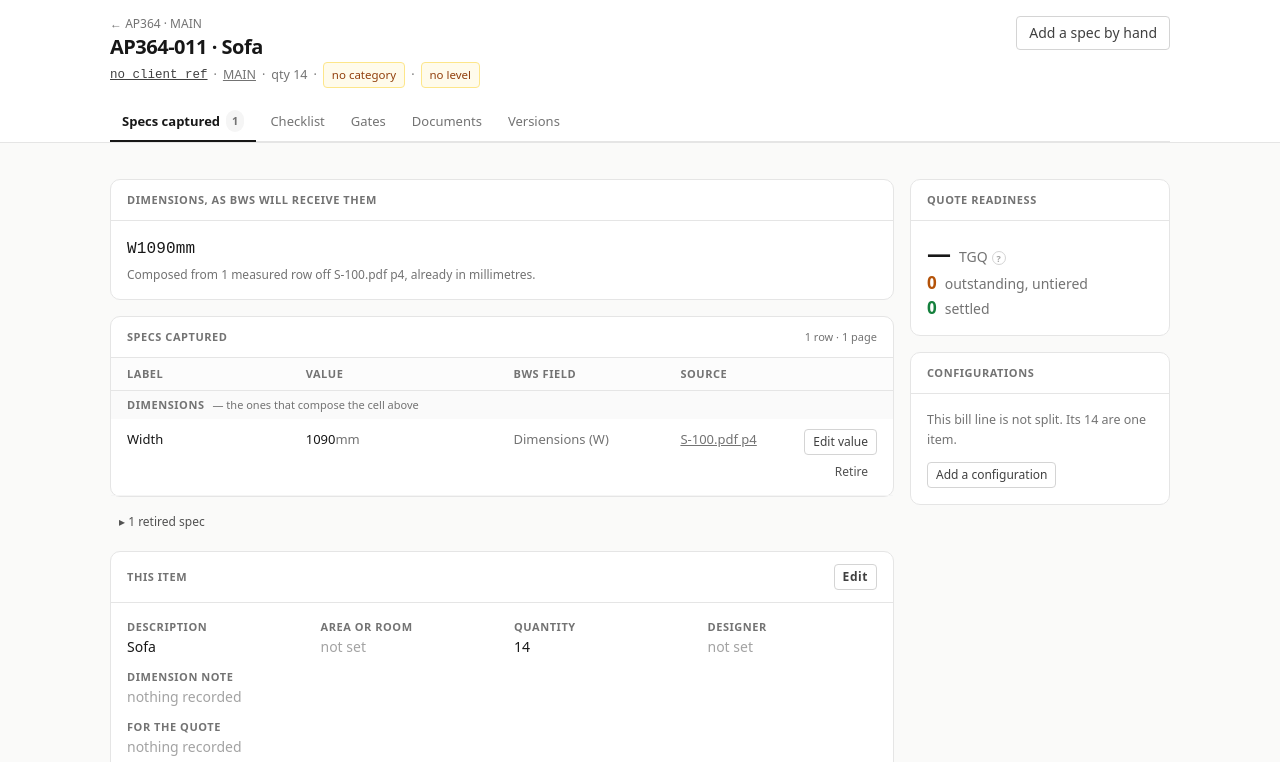
it: correcting a spec from the record › shows a superseded spec with the value that replaced it
The image size is (1280, 762).
Click the button "▸ 1 retired spec" at (162, 522), box [110,509,214,535]
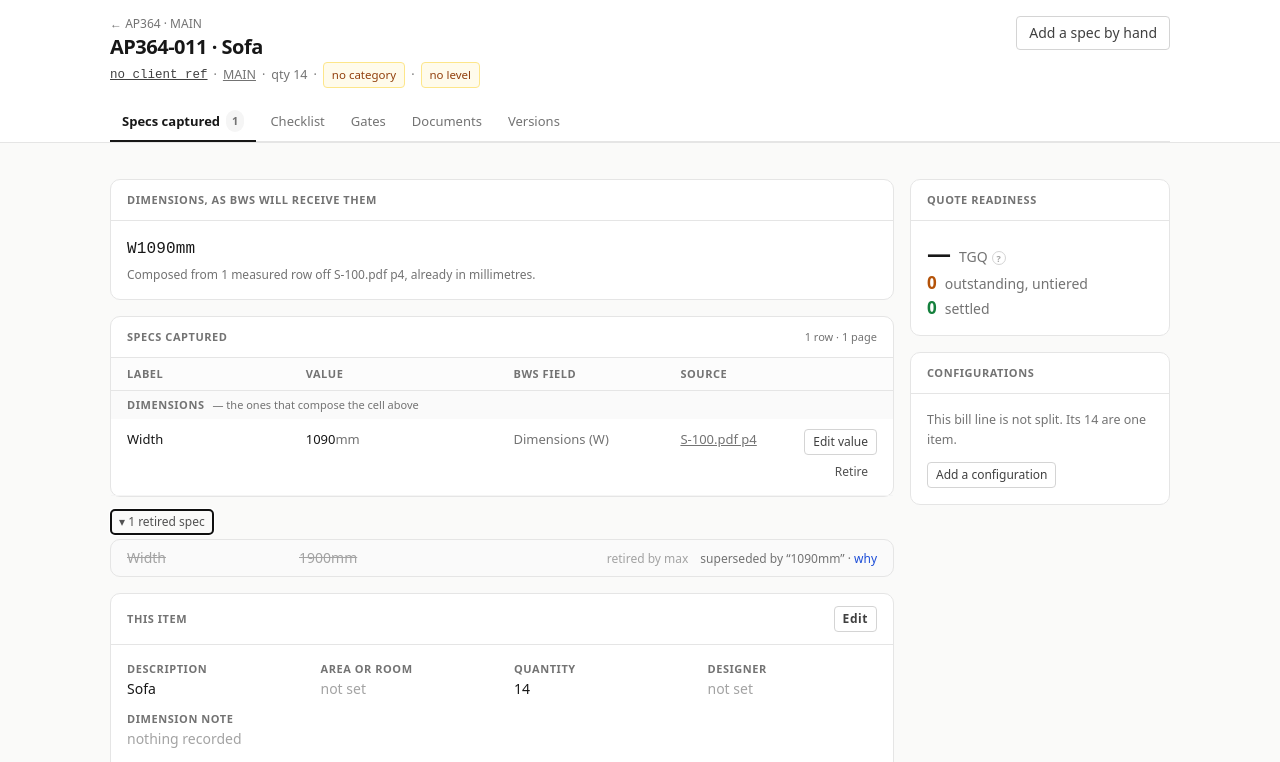
Expected: the text "superseded by “1090mm” · why" is shown, [700,551,877,567]
